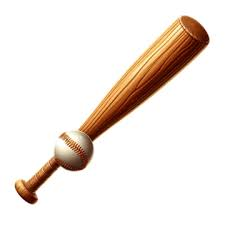baseball bat: (13, 14, 210, 205)
